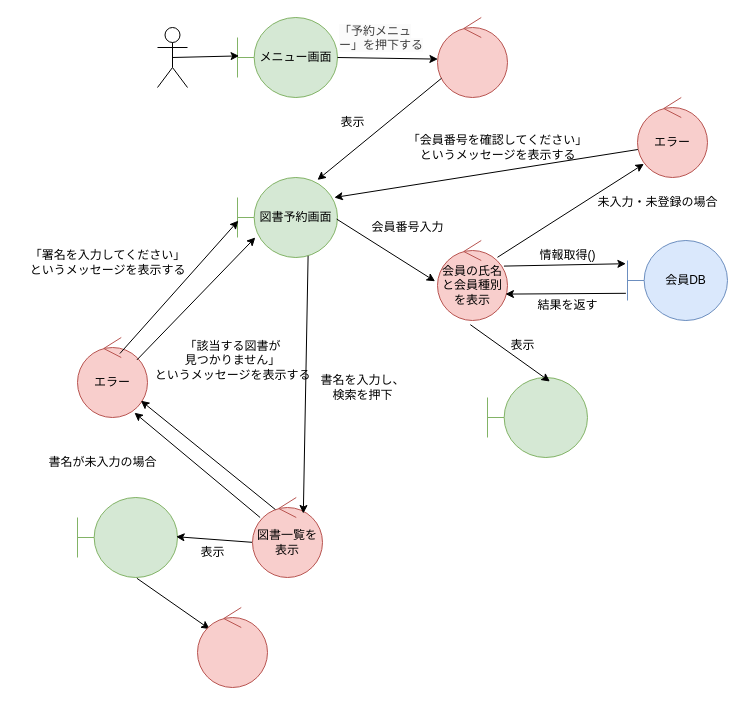
The diagram is 745 pixels wide and 705 high, and some of its shapes have lost their labels. Each missing label, with the box of its shape:
ユーザー: (156, 26, 188, 88)
会員結果画面: (486, 376, 588, 458)
図書一覧画面: (76, 496, 178, 578)
図書予約画面表示: (436, 16, 508, 98)
